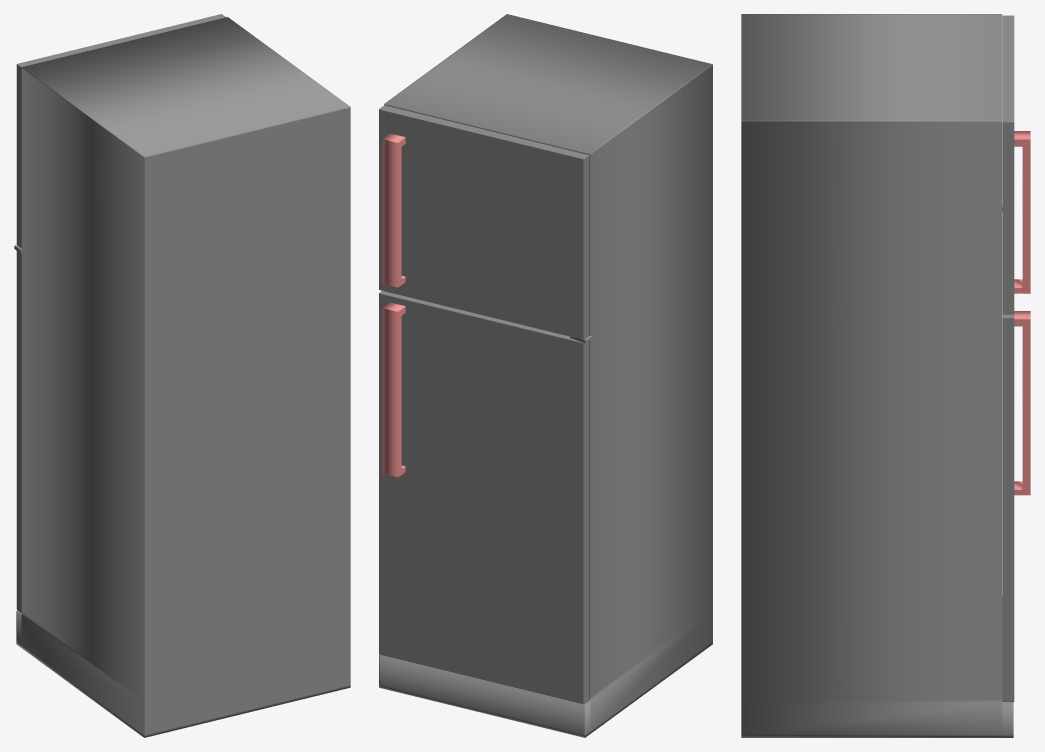
Rendered from fridge.fbx.
3 views of the same model, side by side, from view 1: azimuth 30°, elevation 25°; view 2: azimuth 150°, elevation 25°; view 3: azimuth 270°, elevation 25° (orthographic). The views are drawn at different scales.
Parts seen in each view (by area): view 1: fridge; view 2: fridge; view 3: fridge.
Boxes of the visible parts, x1,y1,x2,y2 form: fridge: (14,14,350,737); fridge: (379,14,712,737); fridge: (741,14,1030,737).
Size of the model in its own units: 102 by 271 by 115.
